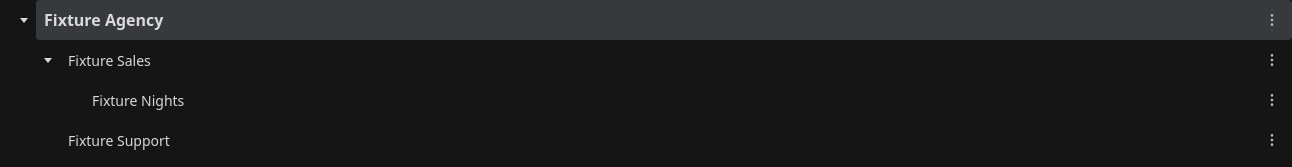
Scenario: GroupTree › offers only Add sub-group on the Agency root
This screenshot has width=1292, height=167.
Click the button named "Actions for Fixture Agency". click: (1272, 20)
box: left=1260, top=8, right=1284, bottom=32
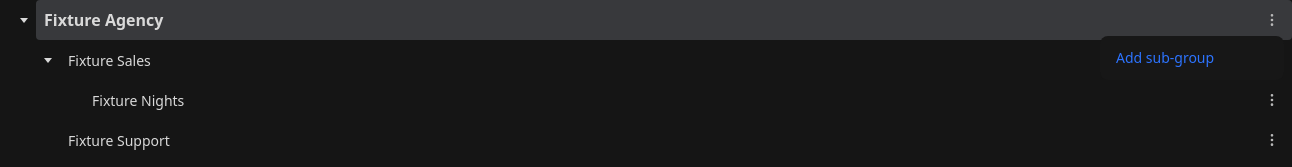
Expected: the menu items read "Add sub-group", in this order, left=1104, top=40, right=1280, bottom=76
